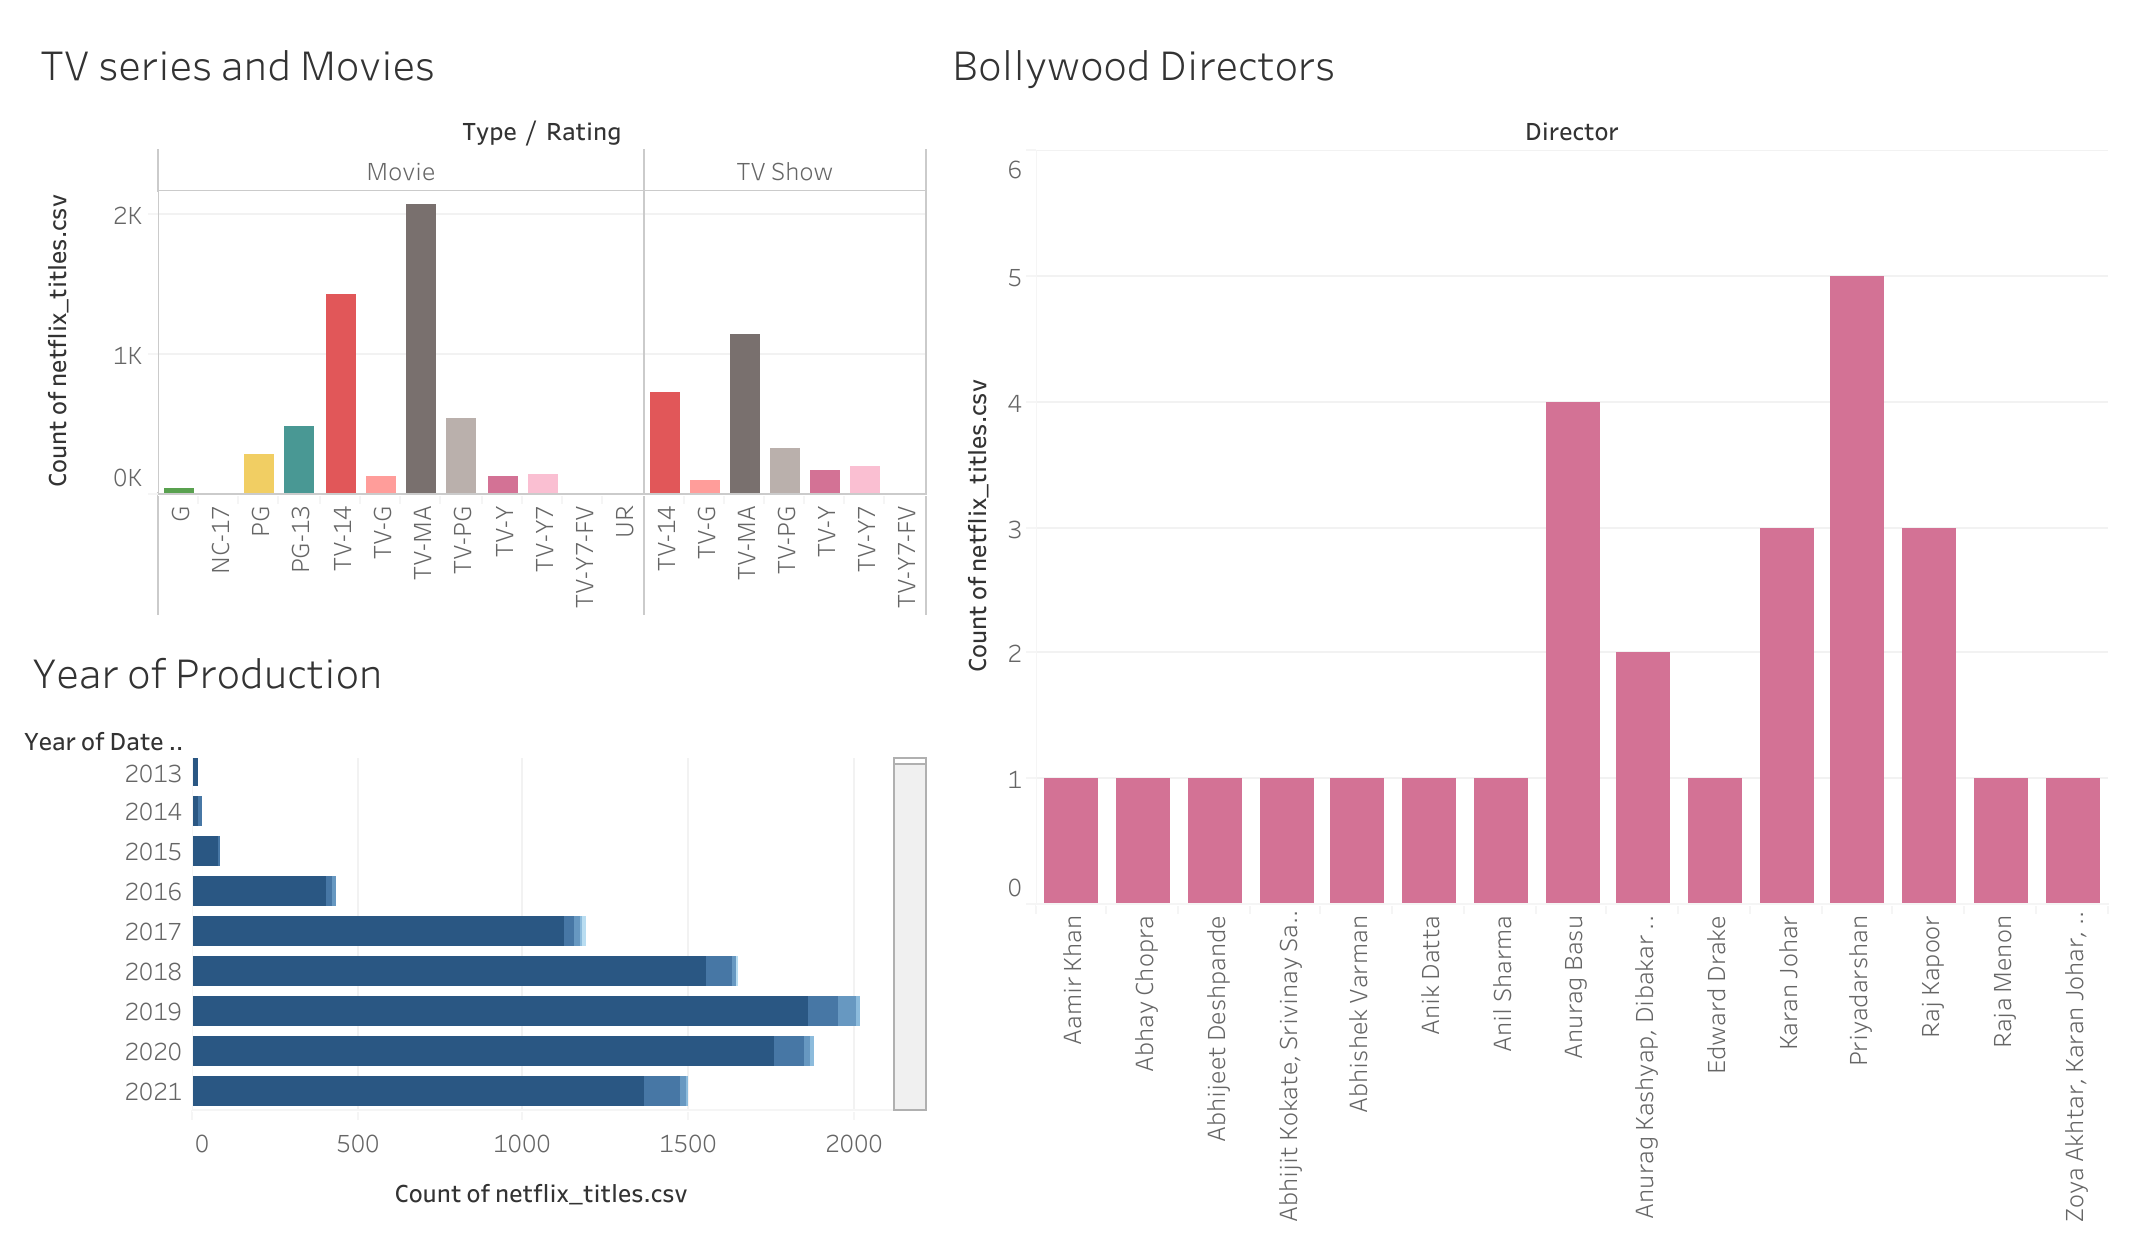

The dashboard page shown, as its layout file describes it:
{"tool":"tableau","page":{"name":"Dashboard 1","canvas":[1000,1000],"units":"permille","ordinal":0},"visuals":[{"type":"worksheet","title":"Sheet 1","mark":"Automatic","rows":["netflix_titles.csv_7B6D6F8D1ADA4135AC81047EB056A8A1"],"cols":["type","rating"],"box":[6.5,12.1,506.9,487.9]},{"type":"worksheet","title":"Sheet 3","mark":"Automatic","rows":["netflix_titles.csv_7B6D6F8D1ADA4135AC81047EB056A8A1"],"cols":["director"],"box":[513.4,12.1,480.1,975.9]},{"type":"worksheet","title":"Sheet 2","mark":"Bar","rows":["date_added"],"cols":["netflix_titles.csv_7B6D6F8D1ADA4135AC81047EB056A8A1"],"box":[6.5,500,506.9,487.9]}]}

Visuals, with their boxes on the dashboard's canvas, which has no fixed pixel size, in thousandths of its width and height (x1, y1, x2, y2). These are canvas units, not pixel positions in the 2130x1246 screenshot, which may show the page scaled, cropped or inside an application window:
"Sheet 1" worksheet: bbox=[6, 12, 513, 500]
"Sheet 3" worksheet: bbox=[513, 12, 994, 988]
"Sheet 2" worksheet (Bar marks): bbox=[6, 500, 513, 988]
